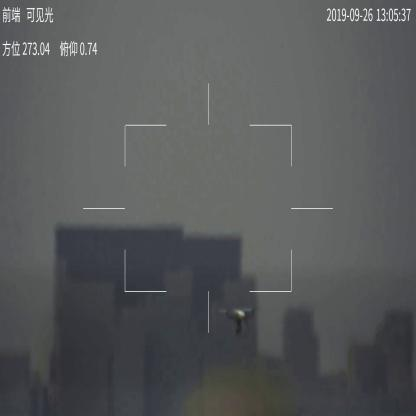uav: (221, 300, 260, 333)
